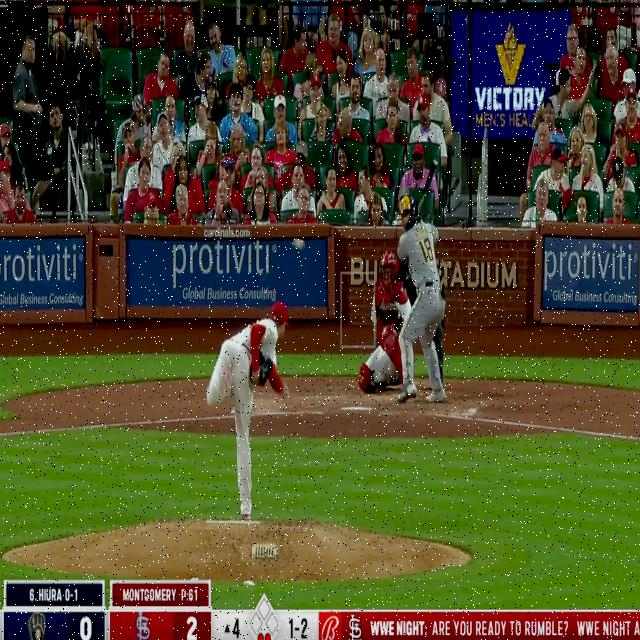baseball: (291, 235, 306, 252)
